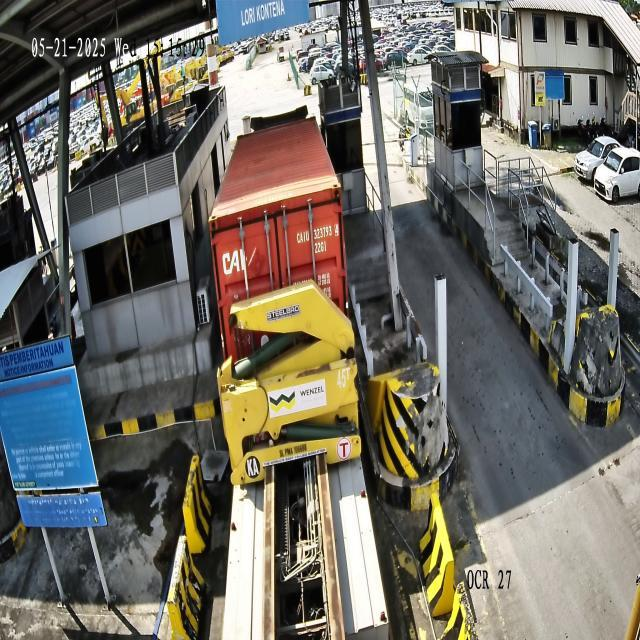ISO: (314, 240, 327, 253)
container_number: (296, 222, 338, 245)
